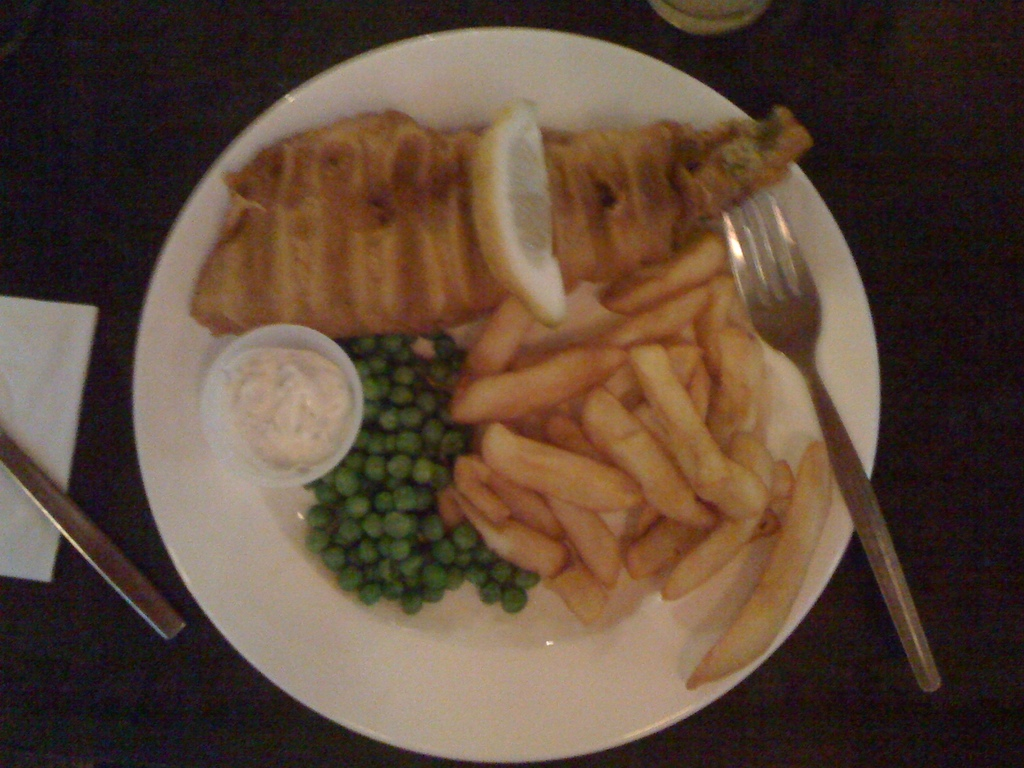French fries: (423, 202, 806, 629)
